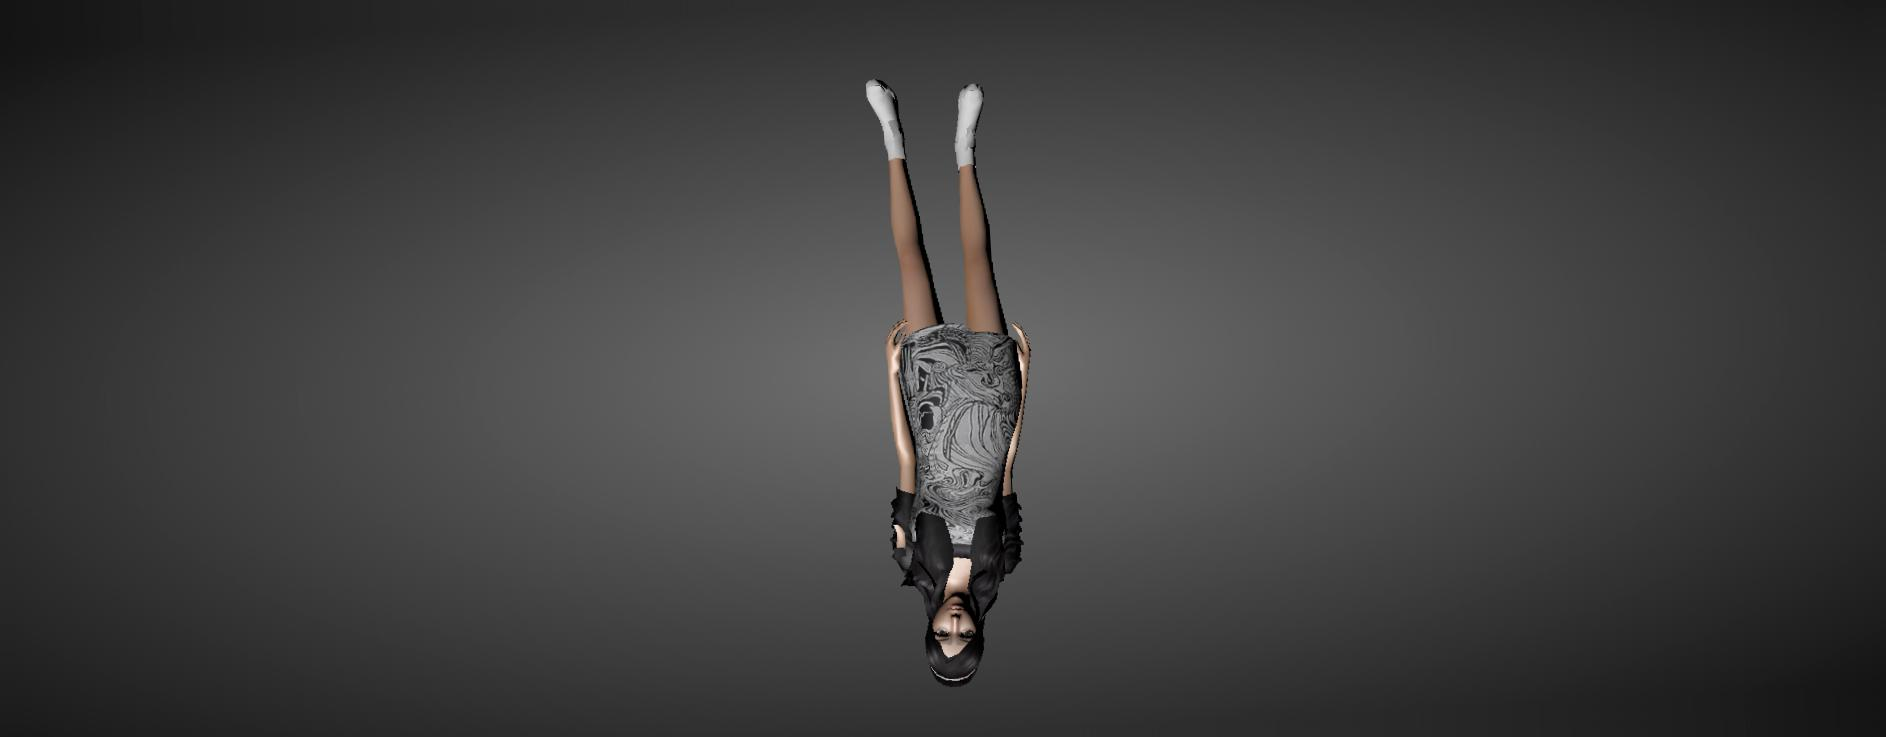clip: (891, 521, 911, 554)
